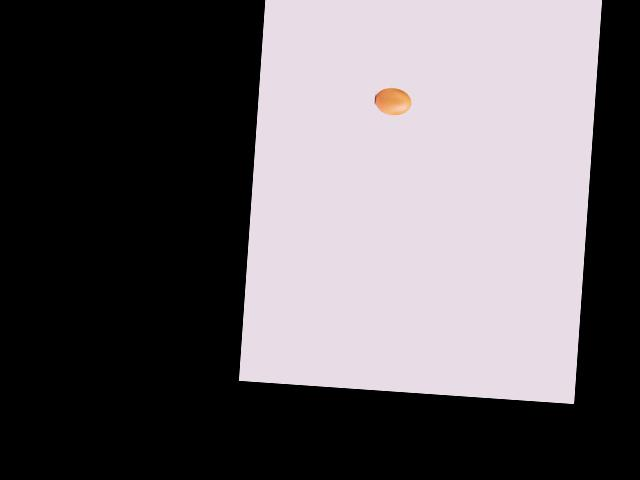egg: (373, 86, 412, 115)
